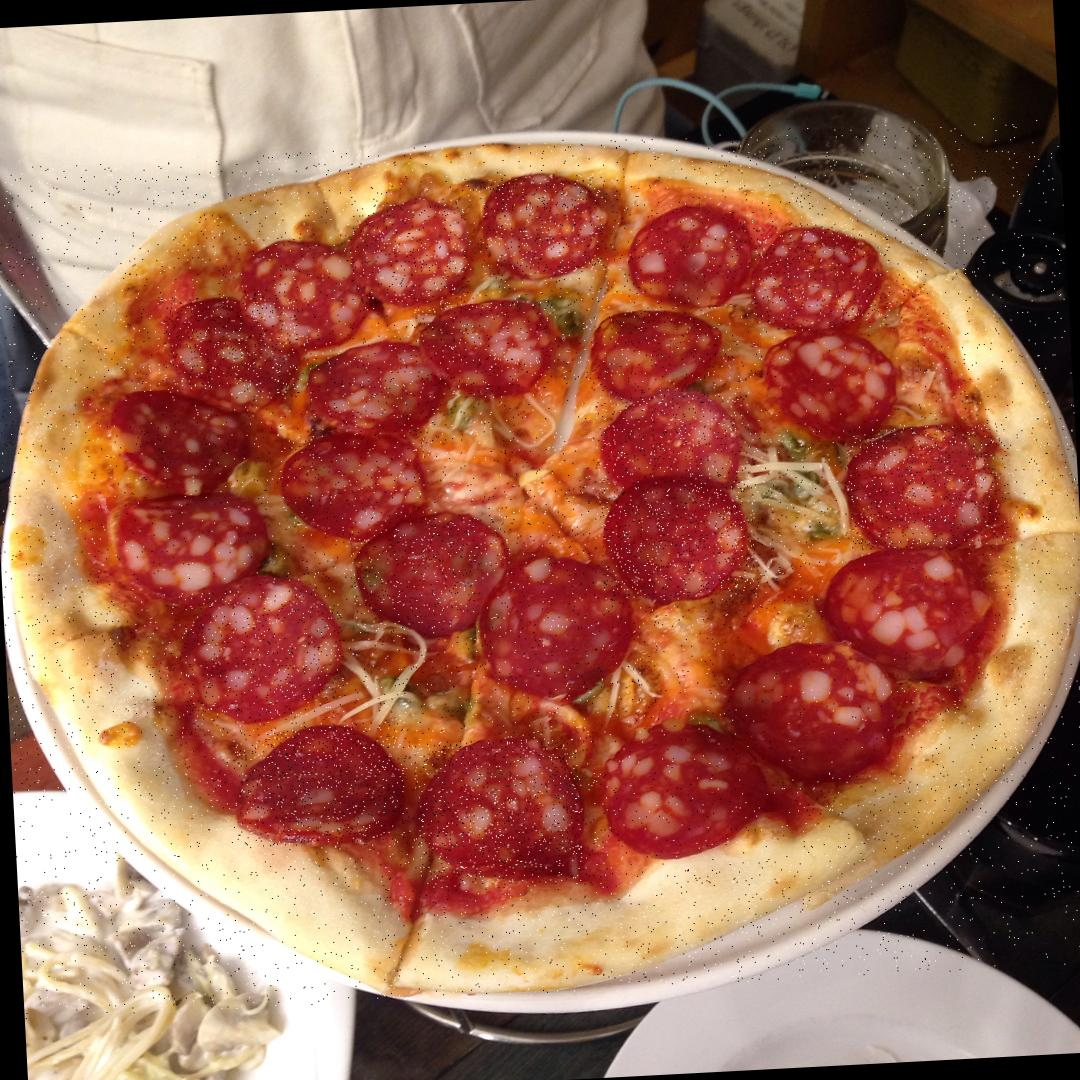Pepperoni: (413, 736, 583, 888), (178, 585, 346, 725), (729, 637, 895, 778), (824, 545, 995, 680), (599, 726, 773, 858), (232, 720, 410, 848), (474, 562, 642, 691), (846, 422, 1011, 550), (349, 514, 520, 632), (598, 480, 758, 601), (106, 489, 274, 599), (276, 426, 432, 537), (762, 325, 920, 431), (110, 386, 256, 498), (749, 218, 893, 331), (161, 291, 300, 406), (594, 392, 752, 487), (624, 199, 753, 310), (235, 236, 354, 353), (418, 300, 557, 397), (480, 172, 607, 276), (348, 197, 470, 304), (582, 307, 728, 396), (308, 342, 444, 433)
Pizza: (0, 112, 1080, 1019)
